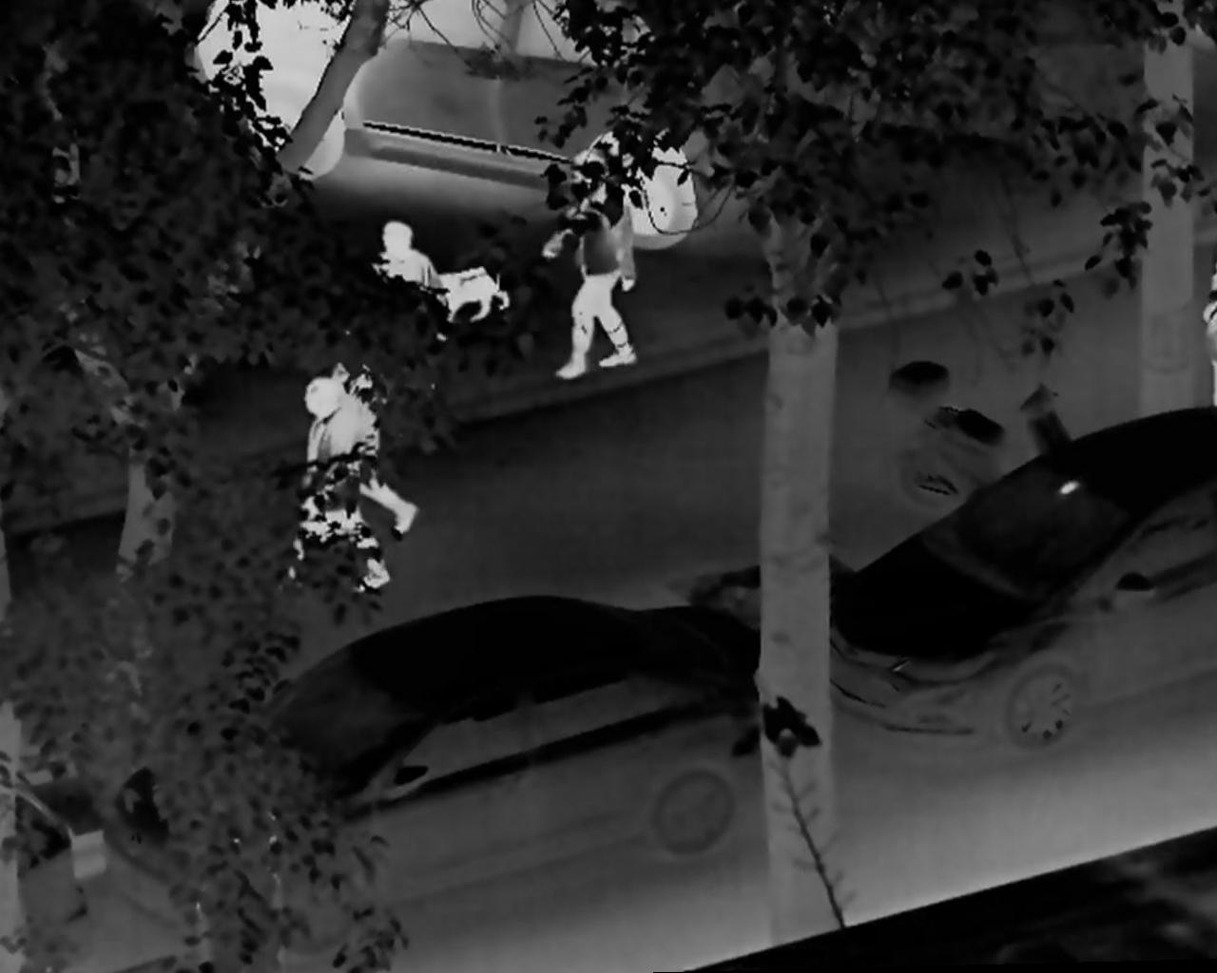person: (270, 378, 390, 615), (544, 145, 645, 393), (319, 324, 427, 538), (371, 219, 449, 317)
